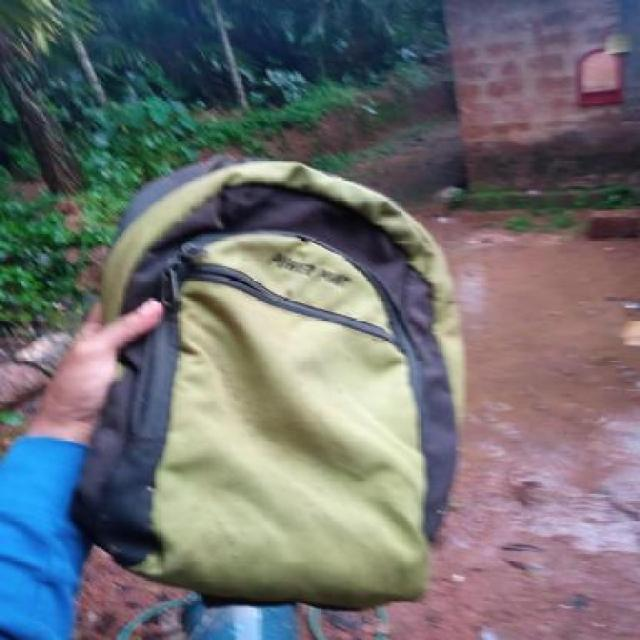backpack: (63, 148, 471, 617)
